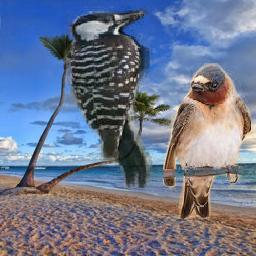Swallow: (163, 63, 251, 219)
Woodpecker: (63, 6, 153, 188)
